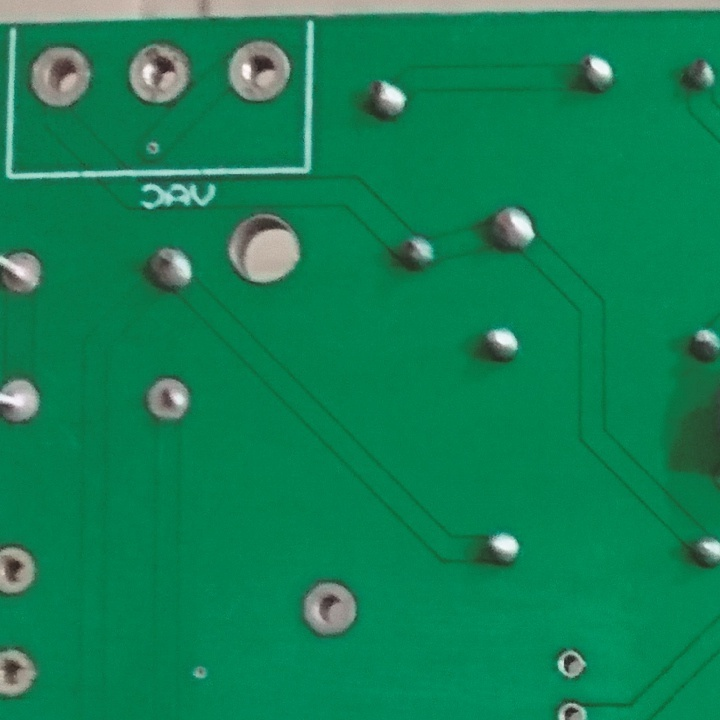F: (125, 40, 195, 107), (26, 43, 96, 109), (224, 38, 292, 104), (296, 578, 359, 638), (1, 245, 47, 298), (142, 375, 193, 422), (1, 545, 41, 604), (1, 376, 47, 426), (1, 646, 39, 701), (555, 650, 591, 680), (554, 699, 588, 720)
